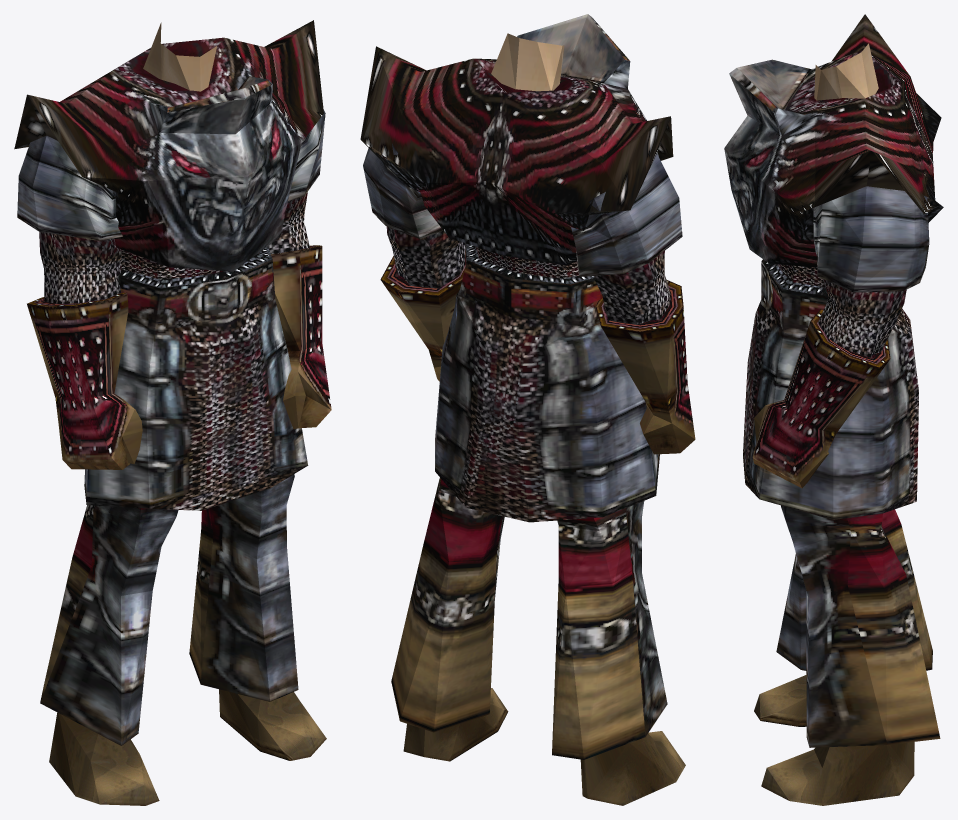
File: GRD_ARMOR_H-ePogoy70.glb
3 renders of one model, left to right at view 1: azimuth 30°, elevation 25°; view 2: azimuth 150°, elevation 25°; view 3: azimuth 270°, elevation 25°, orthographic. The views are drawn at different scales.
Visible parts, largest first — view 1: zm_SLD_Ts, zm_Body; view 2: zm_SLD_Ts, zm_Body; view 3: zm_SLD_Ts, zm_Body.
Boxes of the visible parts, bbox=[...] form: zm_SLD_Ts: bbox=[14, 20, 331, 805]; zm_Body: bbox=[143, 22, 216, 91]; zm_SLD_Ts: bbox=[360, 14, 695, 805]; zm_Body: bbox=[491, 33, 564, 91]; zm_SLD_Ts: bbox=[724, 14, 943, 805]; zm_Body: bbox=[814, 43, 878, 100].
Bounding box in the file's own units: 0.7093 × 1.66 × 0.4633.
2 materials, 2 textured.
